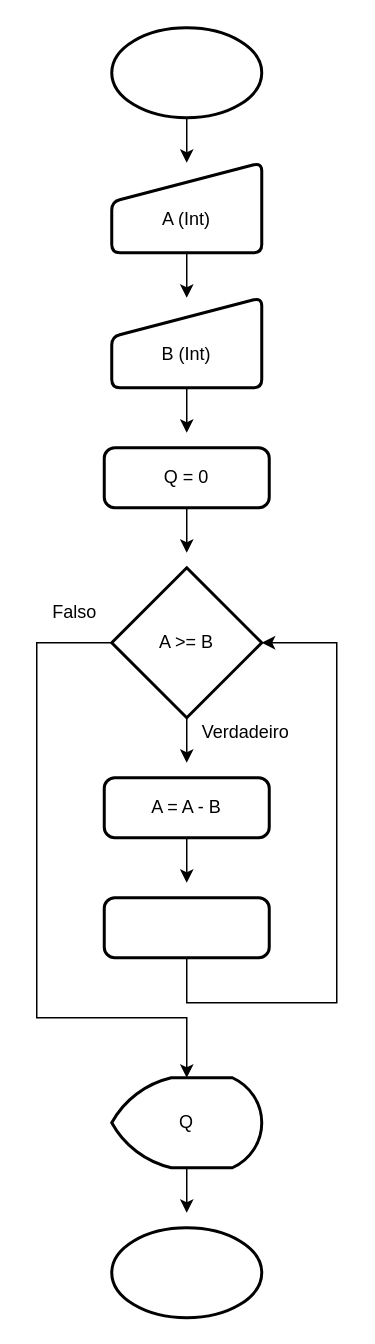
This 375x1344 diagram has some shape labels left out. The box of each missing label's shape, as (x1, y1, x2, y2) in pixels:
Fim: (110, 1226, 262, 1318)
Início: (110, 26, 262, 118)
Q = A + 1: (102, 896, 270, 958)
